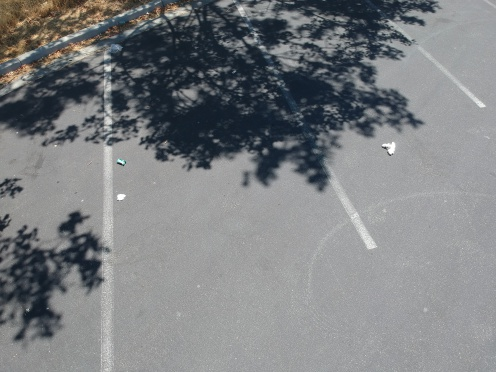can: (110, 16, 134, 29)
plastic bag: (104, 36, 129, 57), (379, 136, 399, 157)
